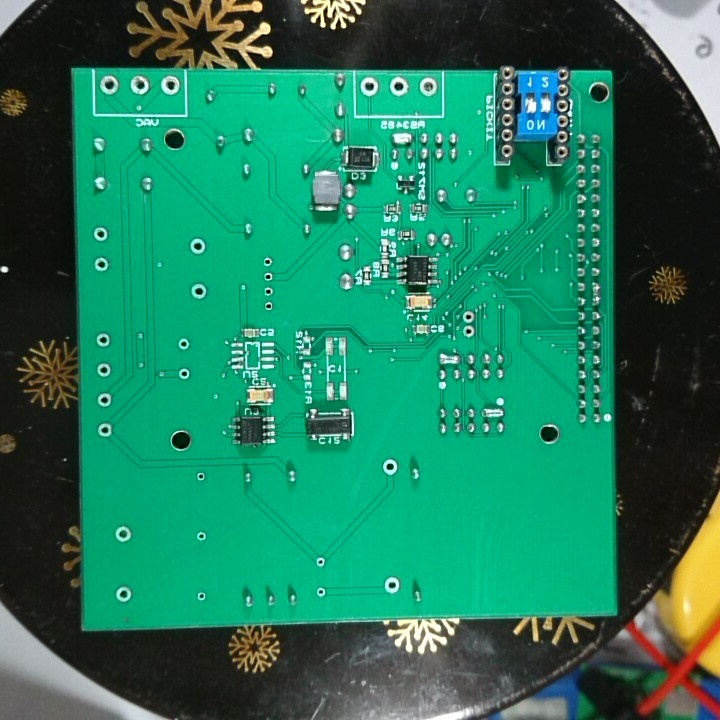F: (128, 74, 153, 98), (381, 573, 406, 597), (159, 72, 182, 98), (387, 75, 412, 98), (187, 279, 210, 303), (92, 252, 114, 277), (97, 72, 119, 96), (113, 522, 134, 547), (380, 456, 402, 478), (359, 77, 379, 100), (114, 582, 133, 606), (418, 77, 440, 97), (95, 419, 114, 442), (93, 330, 114, 350), (94, 389, 113, 411), (188, 237, 207, 257), (92, 224, 110, 245), (94, 361, 113, 380), (458, 323, 479, 340), (193, 588, 210, 607), (175, 335, 192, 353), (174, 365, 191, 383), (460, 307, 477, 324), (314, 582, 327, 602), (262, 298, 278, 314), (262, 282, 277, 298), (262, 267, 277, 283), (195, 467, 209, 484), (313, 553, 327, 568), (261, 255, 275, 270), (195, 529, 208, 545)
P: (588, 277, 604, 307), (436, 351, 462, 368), (390, 129, 413, 147), (481, 406, 506, 420)
